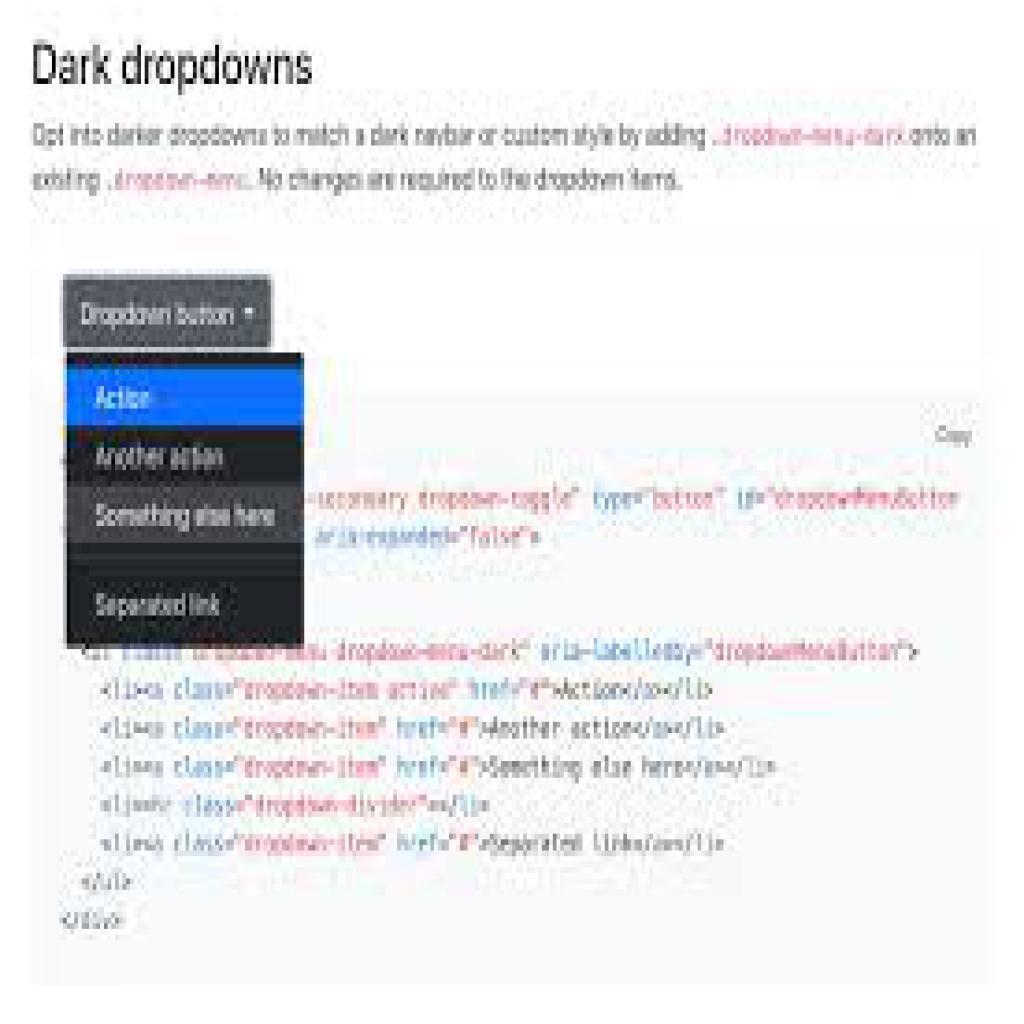dropdown: (62, 279, 270, 348)
